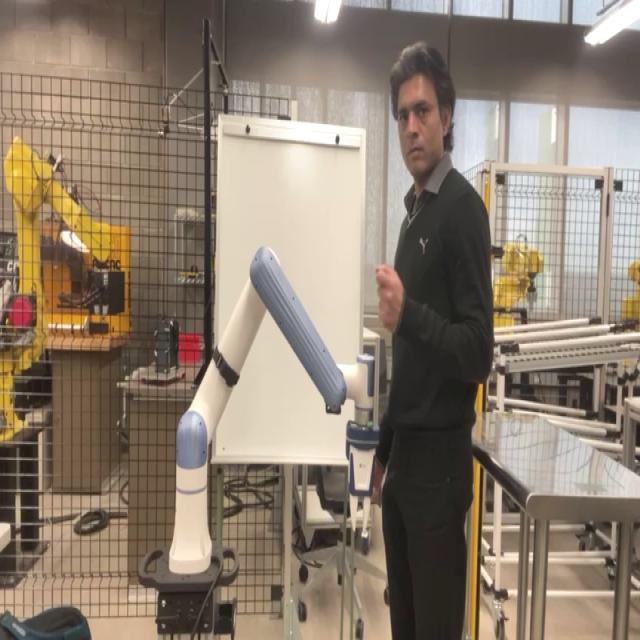robot: (137, 243, 388, 637)
